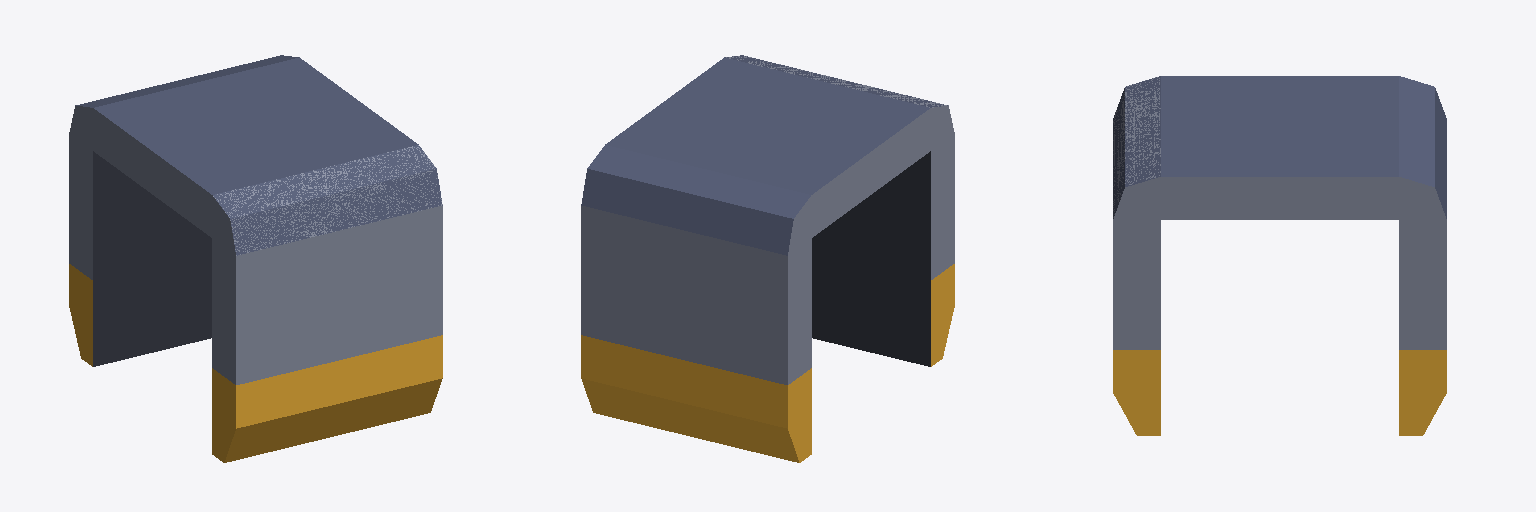
The model's file is cover-stripe.obj.
3 renders of one model, left to right at view 1: azimuth 30°, elevation 25°; view 2: azimuth 150°, elevation 25°; view 3: azimuth 270°, elevation 25°, orthographic.
Parts seen in each view (by area): view 1: cover-stripe; view 2: cover-stripe; view 3: cover-stripe.
Boxes of the visible parts, <box> form: cover-stripe: <box>69,55,442,462</box>; cover-stripe: <box>581,55,954,462</box>; cover-stripe: <box>1113,76,1446,435</box>.
Bounding box in the file's own units: 1 × 1.2 × 1.4.